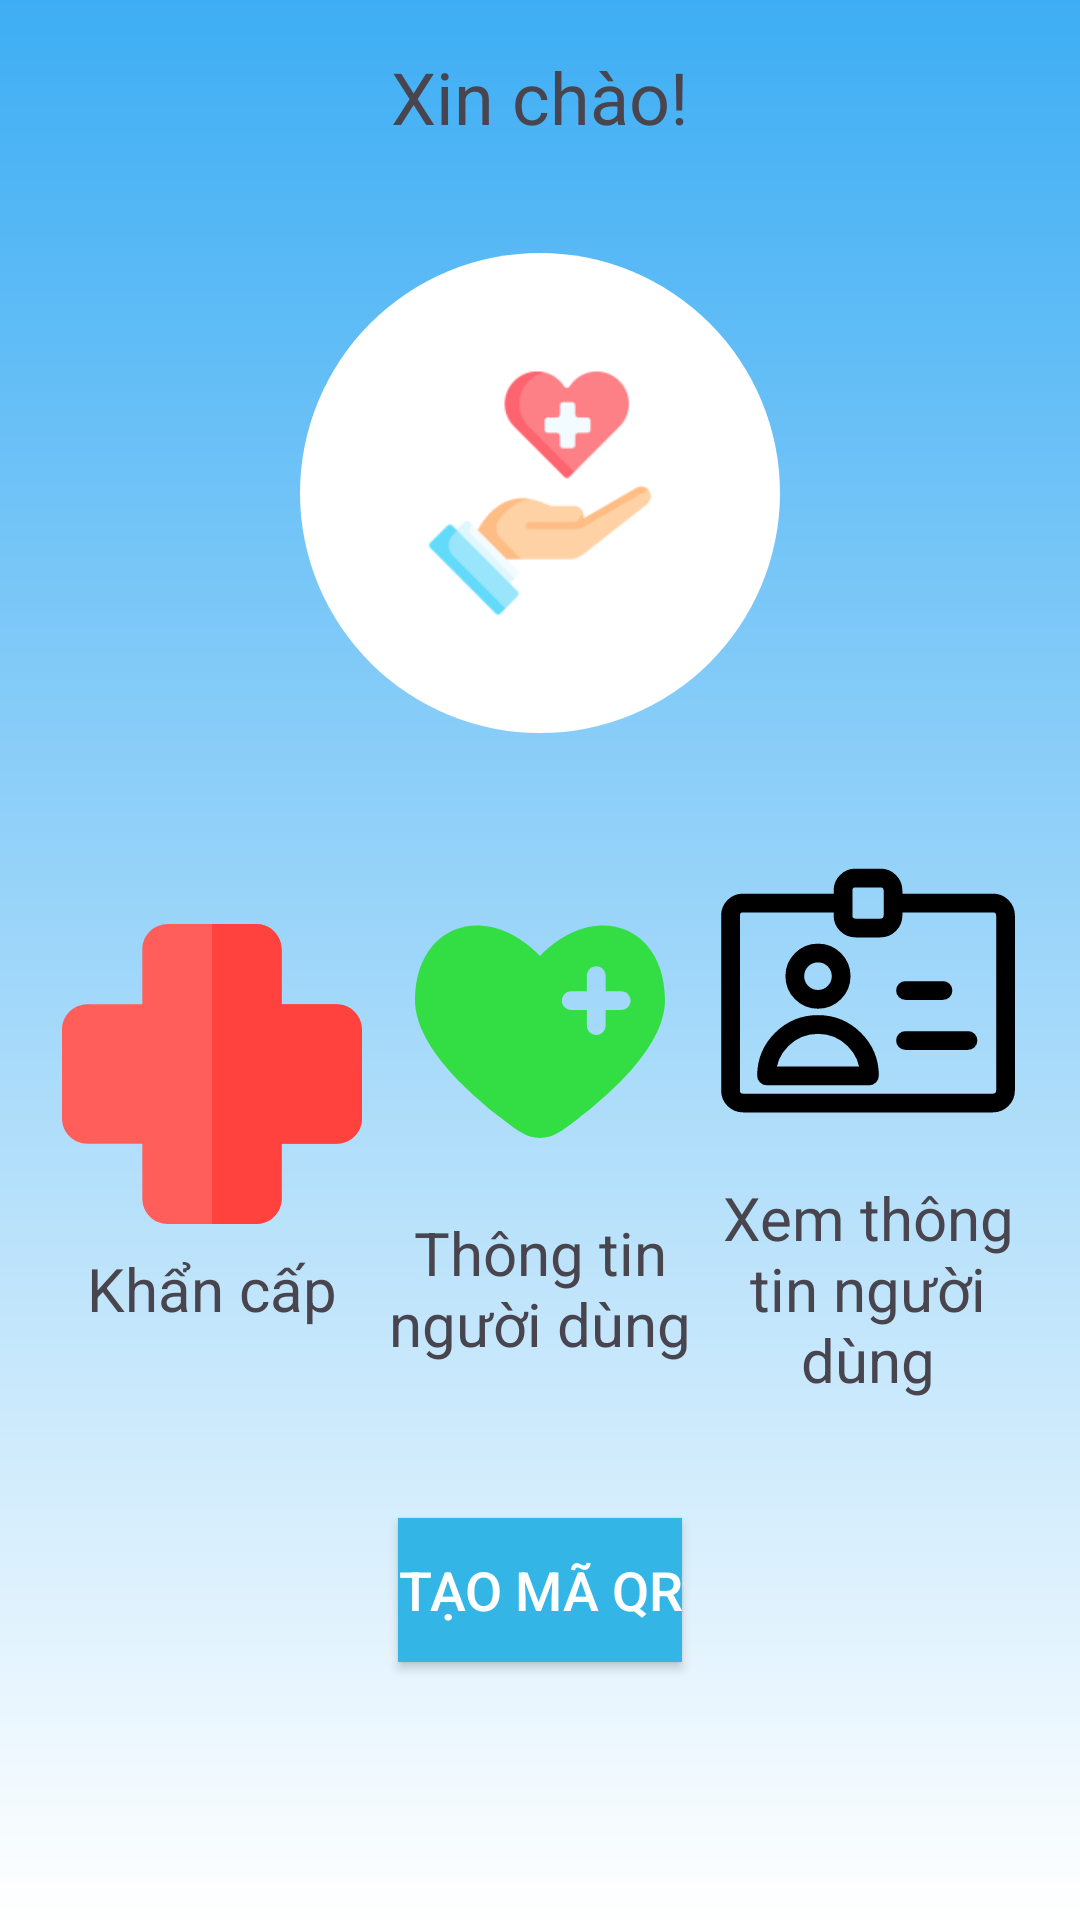

Where to tap for icons on this 1080x1920 app screen, as (x,y):
health in: (540,1013)
hospital id badge: (868,1010)
